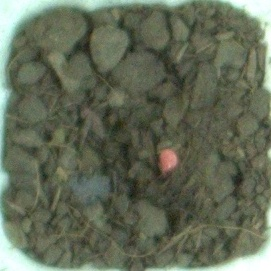pepper seed: (68, 60, 247, 235)
